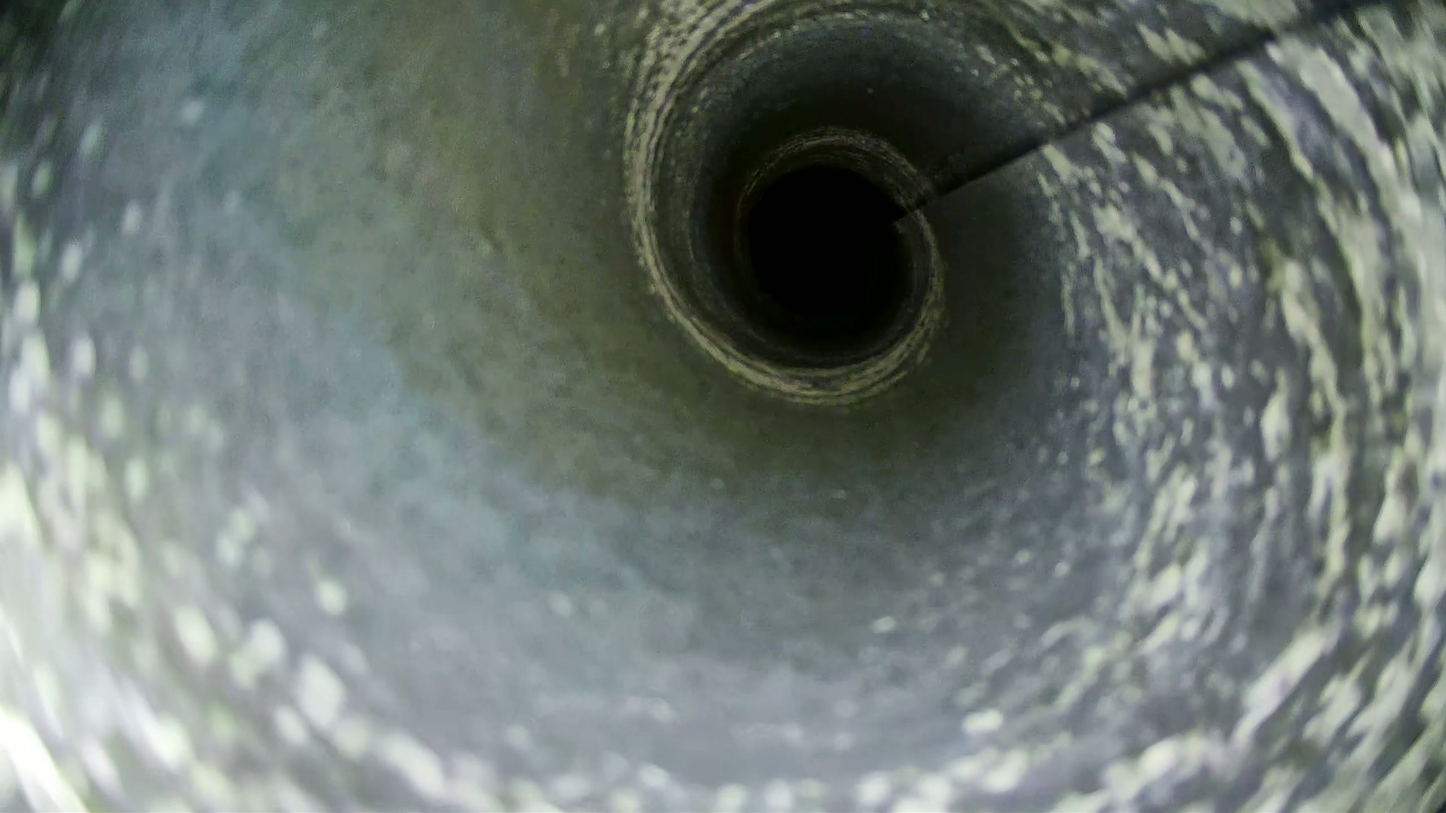hole: (745, 165, 903, 321)
